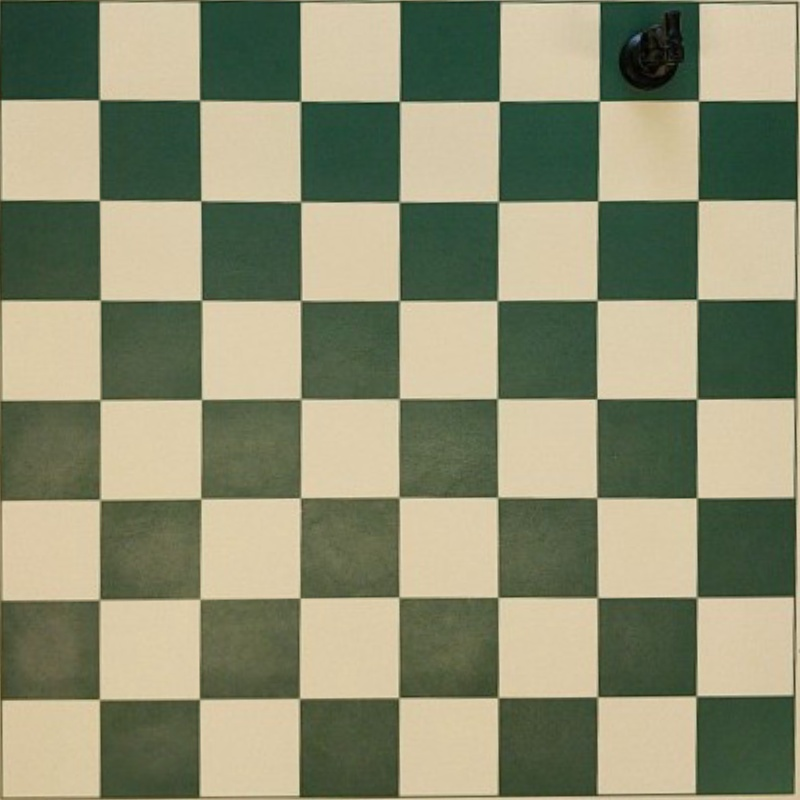black-knight: (620, 14, 685, 86)
